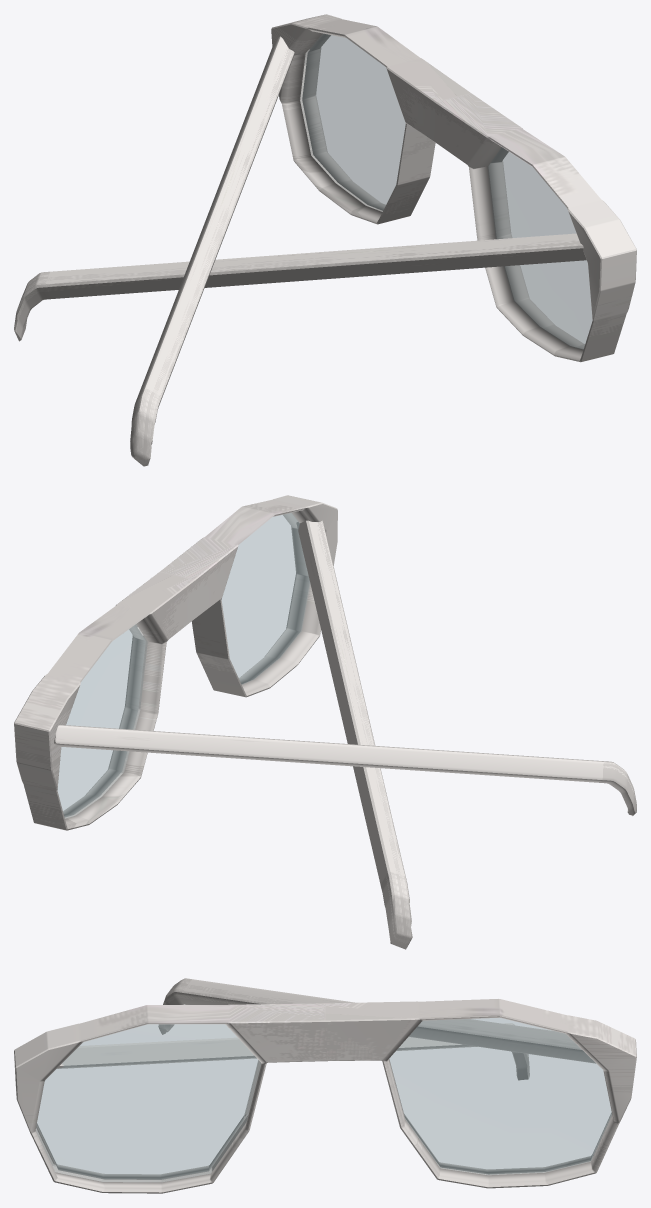
File: eye glasses.fbx
3 views of the same model, one above another, from view 1: azimuth 30°, elevation 25°; view 2: azimuth 150°, elevation 25°; view 3: azimuth 270°, elevation 25° (orthographic). The views are drawn at different scales.
Visible parts, largest first — view 1: glasses, pCube1, pCube2; view 2: glasses, pCube2, pCube1; view 3: glasses, pCube2, pCube1.
Boxes of the visible parts, x1,y1,x2,y2 form: glasses: [271, 14, 636, 362]; pCube1: [14, 233, 586, 341]; pCube2: [130, 36, 294, 466]; glasses: [14, 495, 337, 830]; pCube2: [54, 725, 636, 815]; pCube1: [296, 520, 412, 949]; glasses: [14, 999, 636, 1193]; pCube2: [158, 978, 595, 1063]; pCube1: [57, 1023, 529, 1080].
Size of the model in its own units: 2.3 by 1.22 by 2.95.
